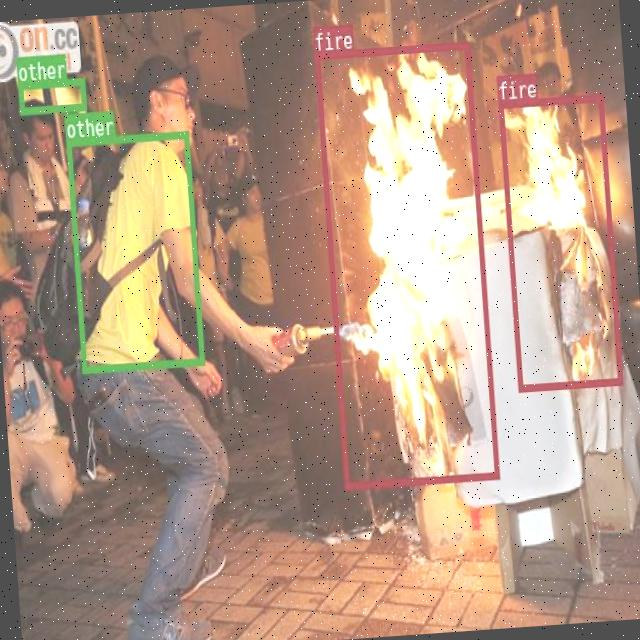fire: (314, 41, 499, 489), (497, 92, 622, 390)
